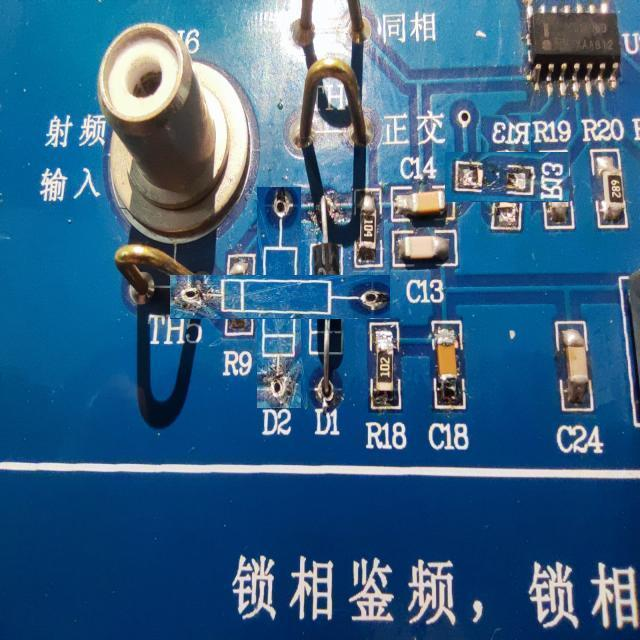miss_welding: (213, 231, 346, 364), (463, 134, 550, 221)
